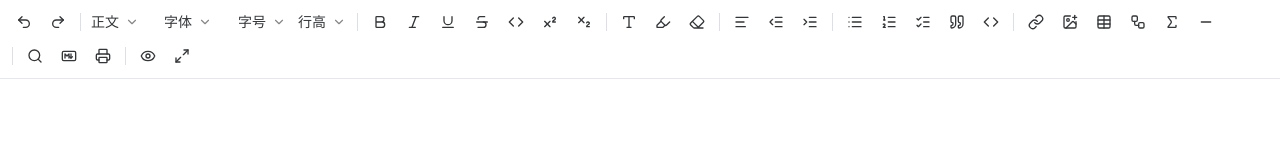
Naive Toolbar › 图片入口合并上传和网络图片菜单
Click the button named "图片" at (1070, 22), box [1054,6,1086,38]
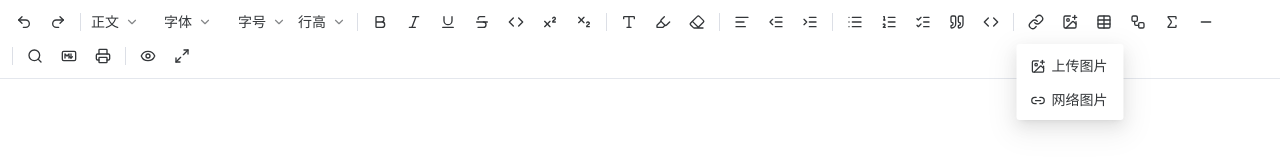
Expected: the text "上传图片" is shown, [1030,59,1108,74]
Expected: the text "网络图片" is shown, [1030,93,1108,108]
